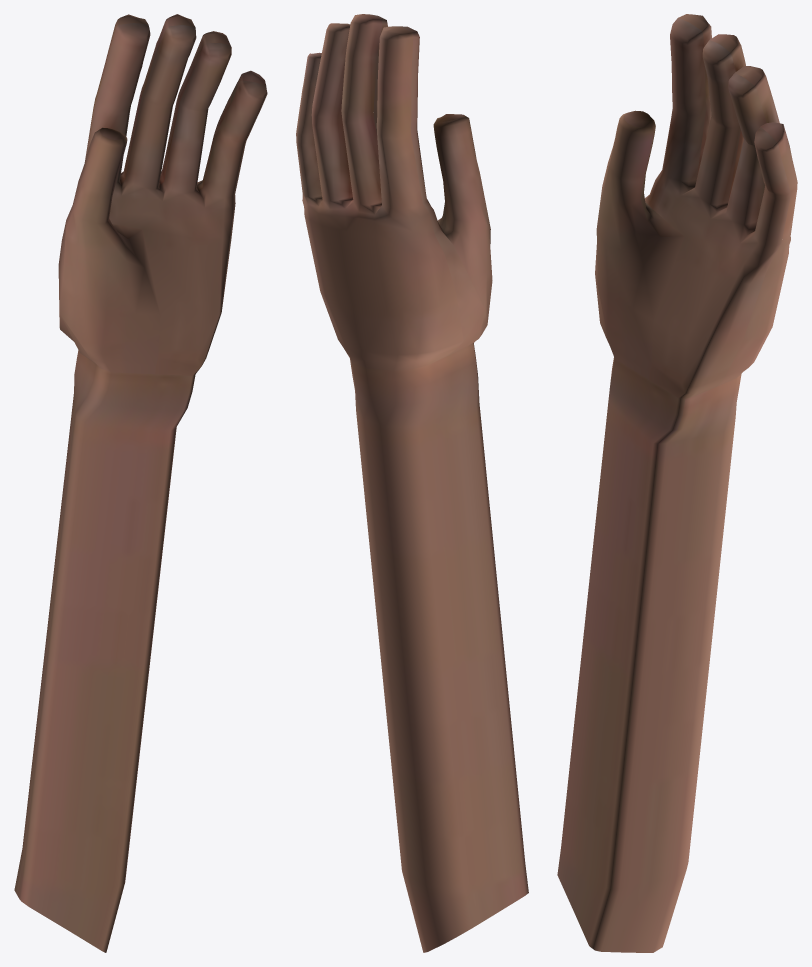
The model's file is KennyLowerArm.gltf.
3 views of the same model, side by side, from view 1: azimuth 30°, elevation 25°; view 2: azimuth 150°, elevation 25°; view 3: azimuth 330°, elevation 25° (orthographic). The views are drawn at different scales.
Visible parts, largest first — view 1: Arm001; view 2: Arm001; view 3: Arm001.
Boxes of the visible parts, <box> form: Arm001: <box>14,14,267,952</box>; Arm001: <box>296,14,528,952</box>; Arm001: <box>557,14,797,952</box>.
Size of the model in its own units: 6.77 by 25.72 by 3.34.
Materials: 1 (1 with a texture image).
